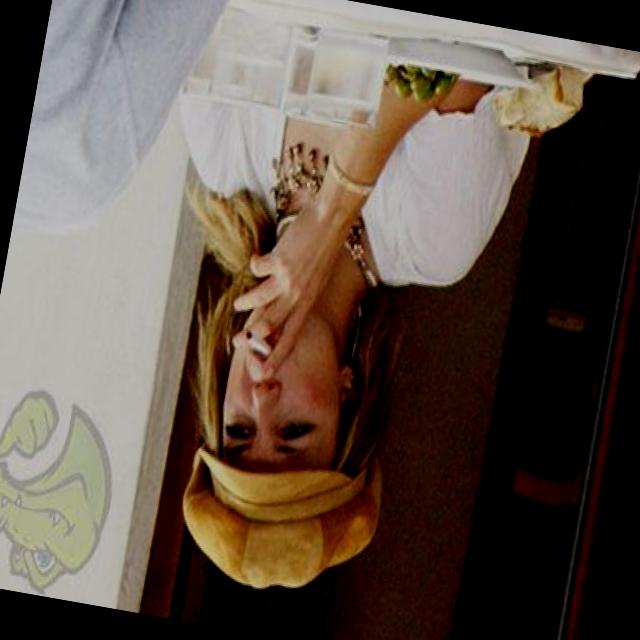cigarette: (234, 317, 282, 364)
